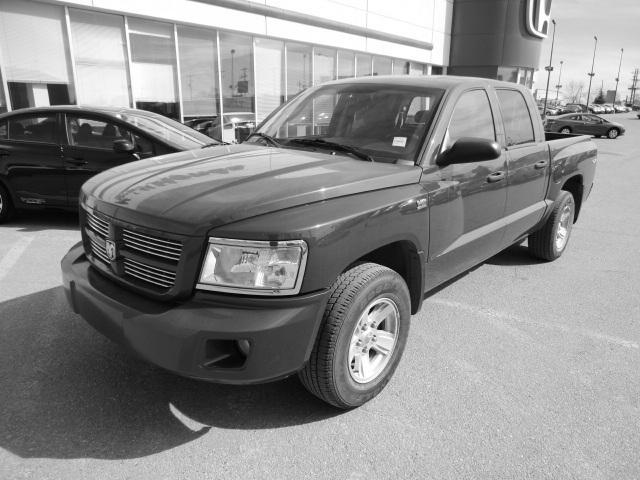car: (59, 73, 601, 410)
